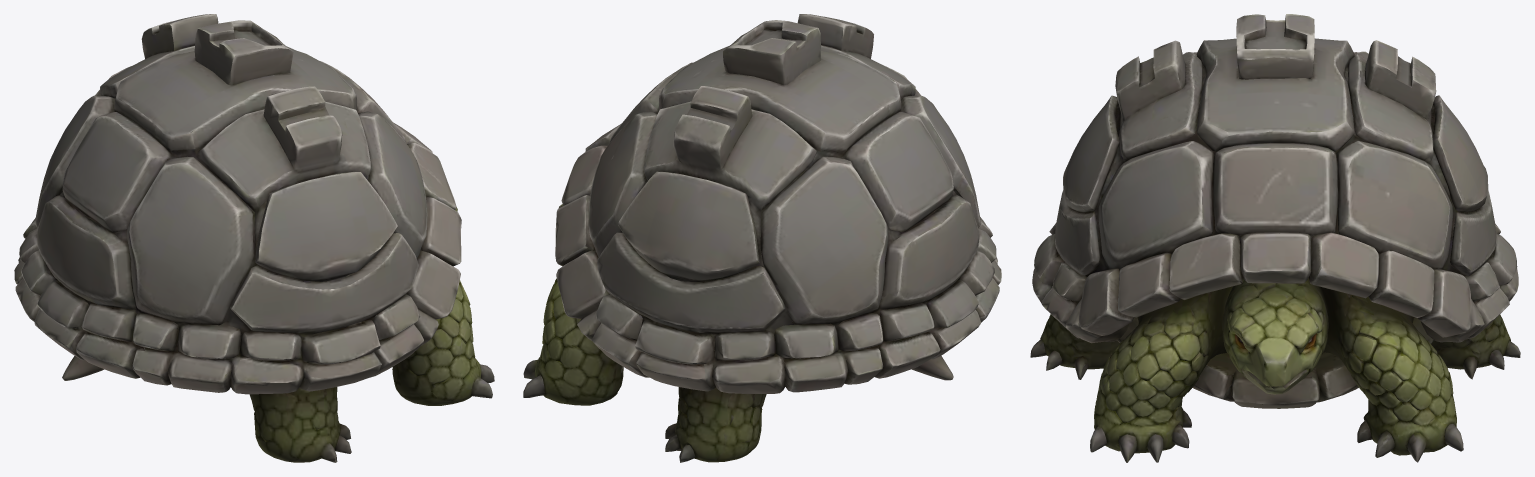
Rendered from stoneTortoise.glb.
3 renders of one model, left to right at view 1: azimuth 30°, elevation 25°; view 2: azimuth 150°, elevation 25°; view 3: azimuth 270°, elevation 25°, orthographic.
Parts seen in each view (by area): view 1: geometry_0; view 2: geometry_0; view 3: geometry_0.
Boxes of the visible parts, x1=… form: geometry_0: x1=14, y1=14, x2=494, y2=462; geometry_0: x1=523, y1=14, x2=1001, y2=462; geometry_0: x1=1030, y1=14, x2=1520, y2=462.
Size of the model in its own units: 0.9668 by 0.7866 by 0.9964.
1 material, 1 textured.
